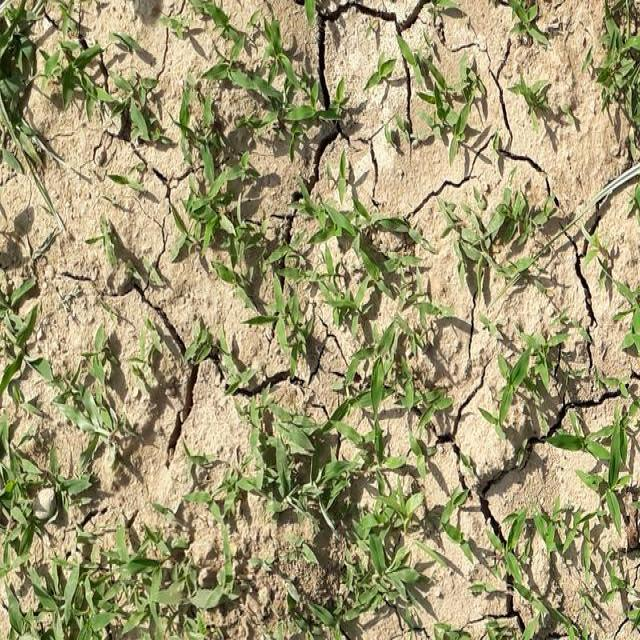weed: (185, 56, 453, 325), (252, 367, 472, 628), (0, 508, 249, 640)
